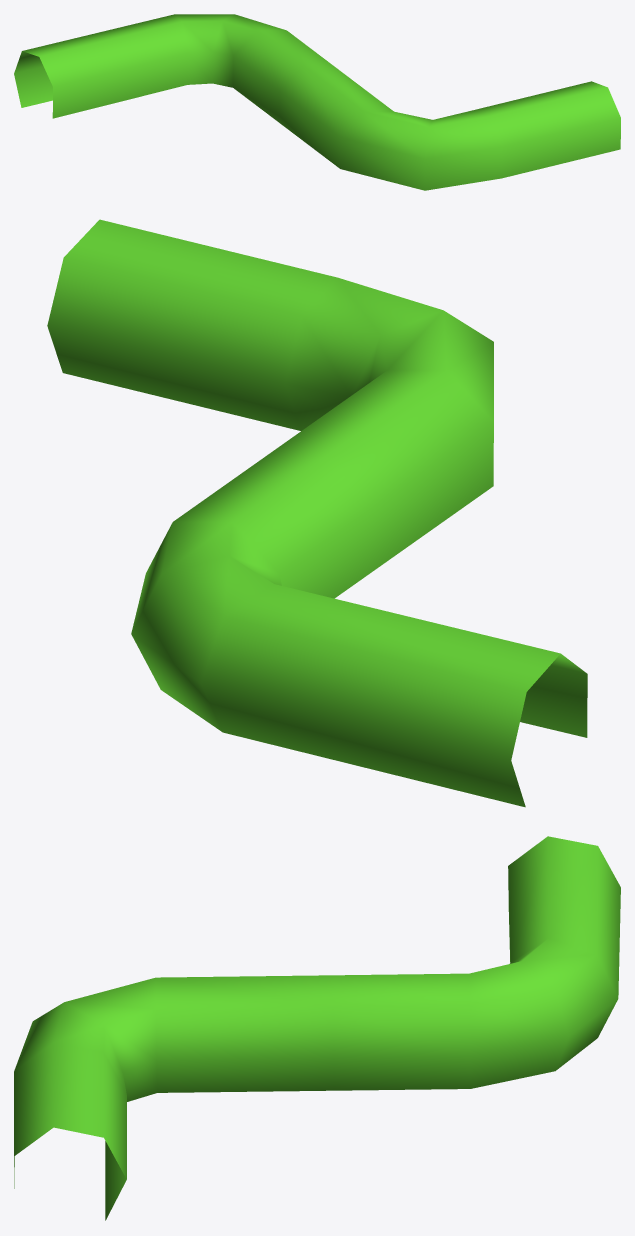
The model's file is Norris_Maze_Green_Wire_S.fbx.
3 views of the same model, one above another, from view 1: azimuth 30°, elevation 25°; view 2: azimuth 150°, elevation 25°; view 3: azimuth 270°, elevation 25° (orthographic). The views are drawn at different scales.
Visible parts, largest first — view 1: WireLong5; view 2: WireLong5; view 3: WireLong5.
Boxes of the visible parts, bbox=[...] form: WireLong5: bbox=[14, 14, 620, 190]; WireLong5: bbox=[47, 219, 587, 807]; WireLong5: bbox=[14, 836, 620, 1220].
Size of the model in its own units: 6.47 by 1.05 by 5.8.
